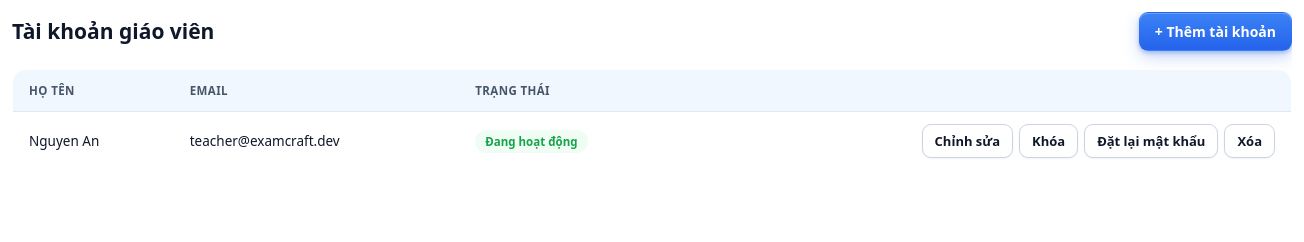
Test case: AdminTeachersPage › hiển thị lỗi 409 khi xóa giáo viên còn đề thi
The width and height of the screenshot is (1304, 242).
Expected: the cell "Nguyen An" is shown, 12,112 -> 174,171
Click the button "Xóa": (1250, 141) 1224,124 -> 1275,158
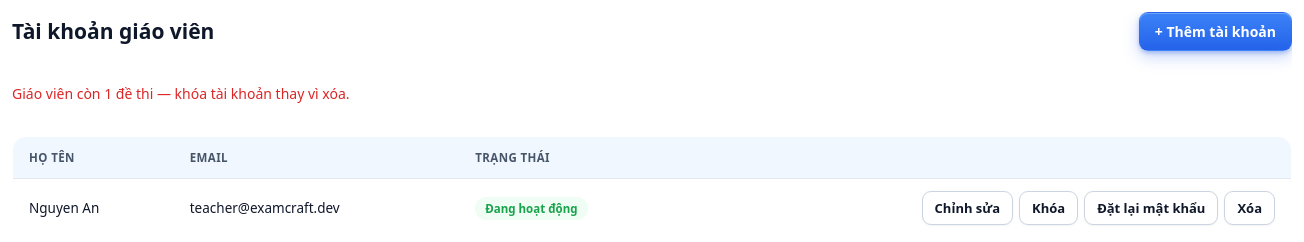
Expected: the text "Giáo viên còn 1 đề thi — khóa tài khoản thay vì xóa." is shown, 12,84 -> 350,103
